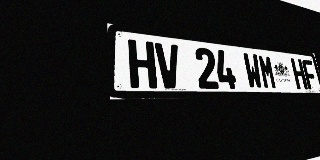2: (194, 47, 219, 89)
4: (214, 49, 237, 89)
F: (301, 59, 318, 89)
H: (128, 39, 157, 88), (290, 58, 308, 89)
M: (257, 54, 277, 89)
V: (154, 42, 182, 89)
W: (242, 52, 263, 89)
